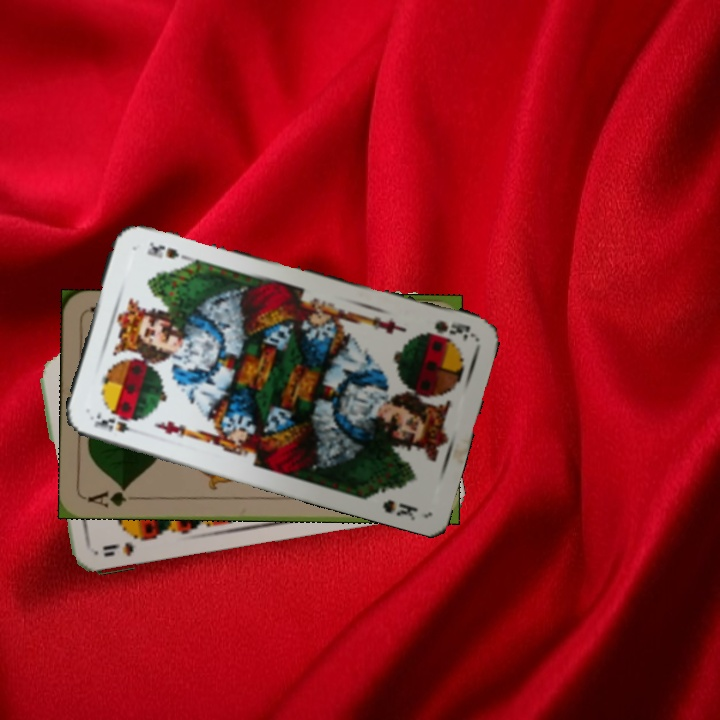GA: (84, 483, 130, 510)
S9: (98, 532, 152, 559)
SK: (89, 408, 145, 438), (421, 316, 474, 345)
